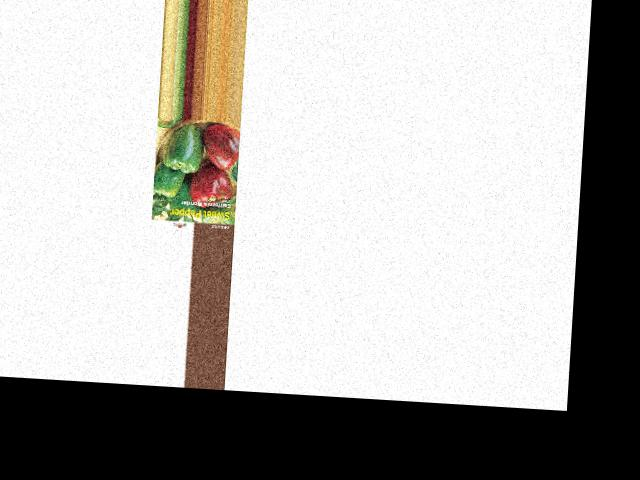bell_pepper: (151, 155, 182, 201)
